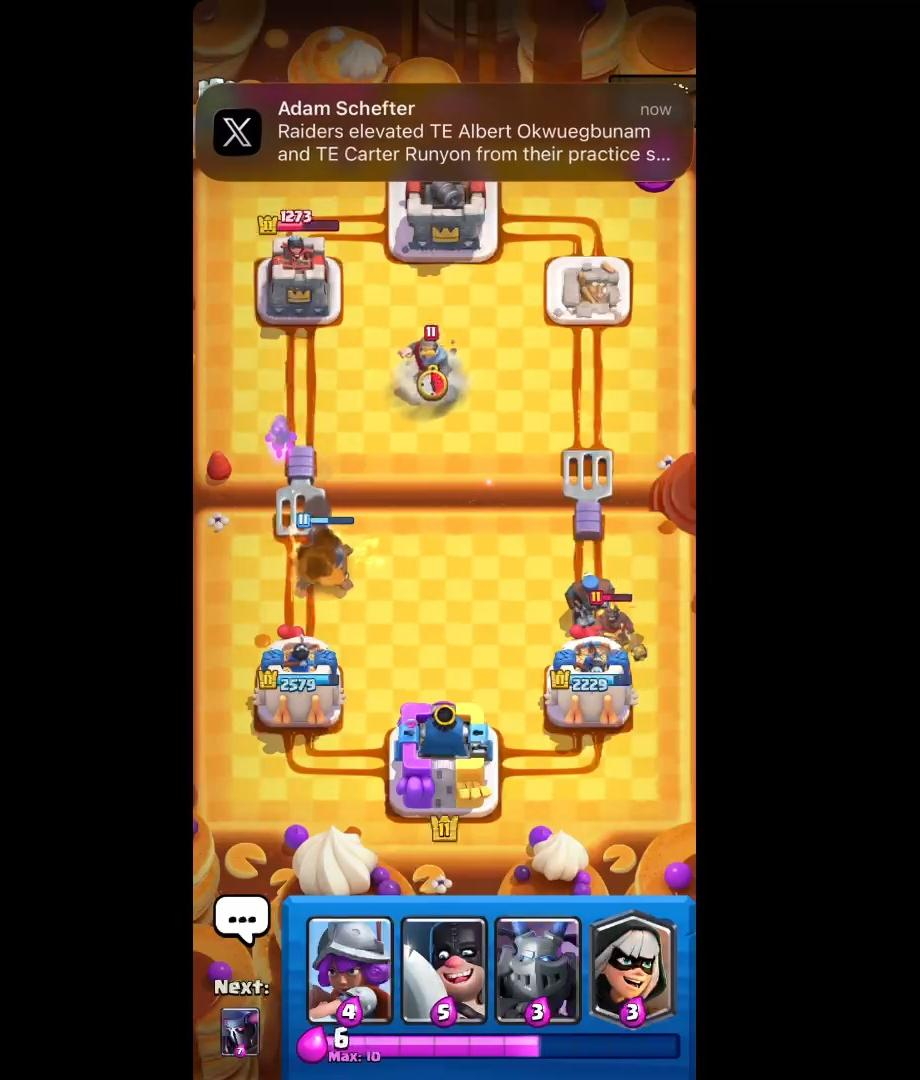Hog Rider: (590, 587, 645, 663)
